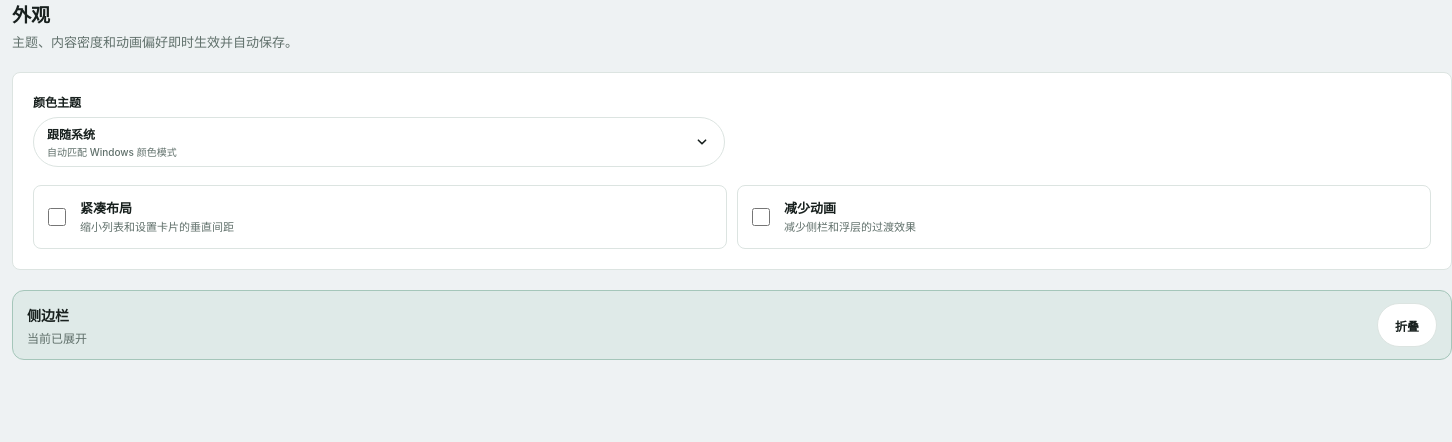
Test: AppearanceSettings automatic persistence › applies a theme immediately without a save button
The width and height of the screenshot is (1452, 442).
Click the button with aria-label "颜色主题" at (71, 135), box [33,117,724,167]
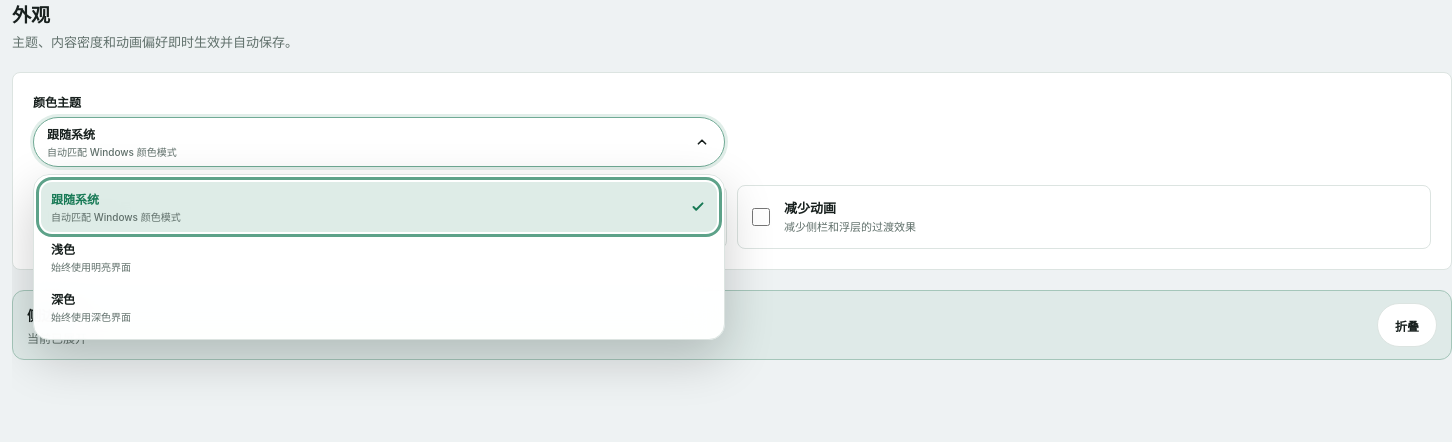
Click the option "浅色 始终使用明亮界面" at (91, 267), box [41,232,716,282]
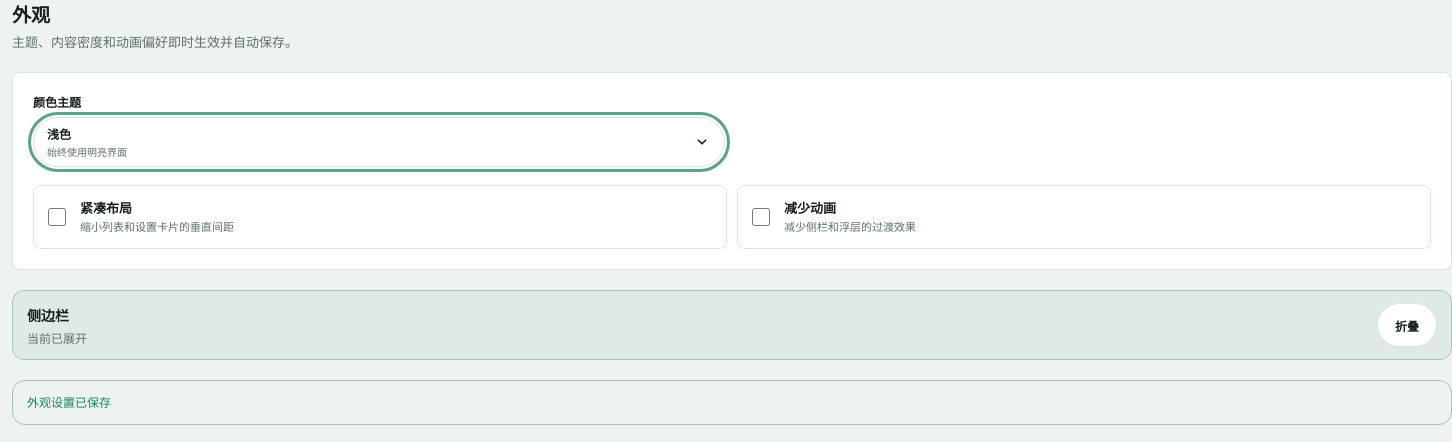
expect the button with aria-label "颜色主题" shows "浅色": met, box [33,117,724,167]
